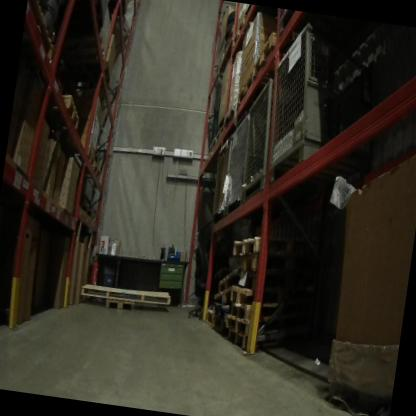pallet: (20, 0, 69, 72), (70, 277, 173, 310), (226, 227, 300, 263), (220, 310, 293, 346), (222, 290, 284, 328), (62, 26, 112, 67), (225, 328, 289, 357), (253, 32, 291, 79), (38, 93, 82, 133), (214, 256, 253, 301), (230, 13, 255, 64), (228, 282, 277, 308), (223, 250, 271, 276), (236, 61, 261, 108), (102, 296, 143, 317), (70, 148, 99, 174), (223, 97, 241, 129), (203, 304, 222, 334), (211, 284, 230, 308), (211, 121, 225, 151), (92, 157, 102, 180)
stillage: (256, 16, 367, 208), (234, 74, 285, 217), (221, 111, 261, 219), (207, 131, 242, 227)
